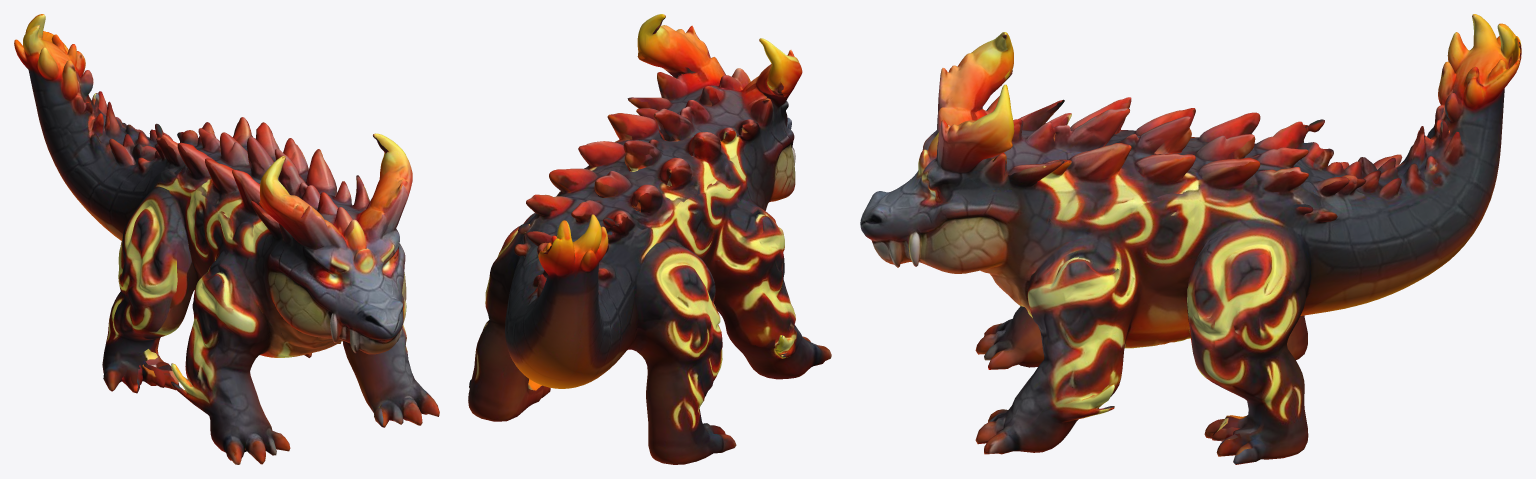
File: lav_canavari.glb
3 views of the same model, side by side, from view 1: azimuth 30°, elevation 25°; view 2: azimuth 150°, elevation 25°; view 3: azimuth 270°, elevation 25° (orthographic). The views are drawn at different scales.
Visible parts, largest first — view 1: Lava Creature; view 2: Lava Creature; view 3: Lava Creature.
Part boxes in pixels (x1,y1,x2,y2): Lava Creature: [14, 14, 439, 464]; Lava Creature: [468, 14, 831, 464]; Lava Creature: [860, 14, 1521, 464].
Bounding box in the file's own units: 1.11 × 1.3 × 2.26.
1 material, 1 textured.
